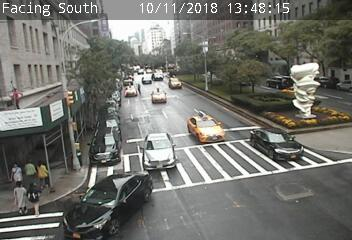car: (62, 170, 154, 240), (250, 128, 304, 161), (143, 133, 175, 169), (89, 128, 120, 164), (188, 116, 225, 143), (266, 75, 293, 89), (281, 86, 308, 98), (152, 90, 166, 102), (124, 86, 136, 98), (169, 77, 181, 88), (142, 75, 152, 84), (152, 72, 163, 80)
